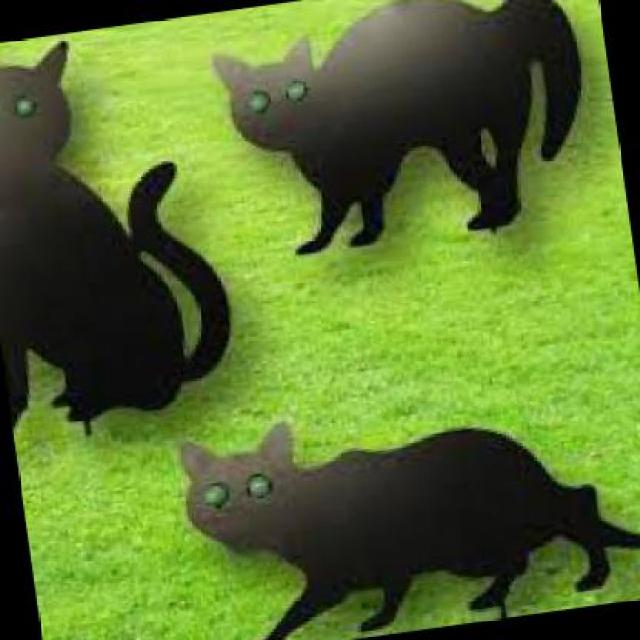animals: (162, 357, 638, 638), (198, 0, 610, 280), (0, 14, 257, 449)
